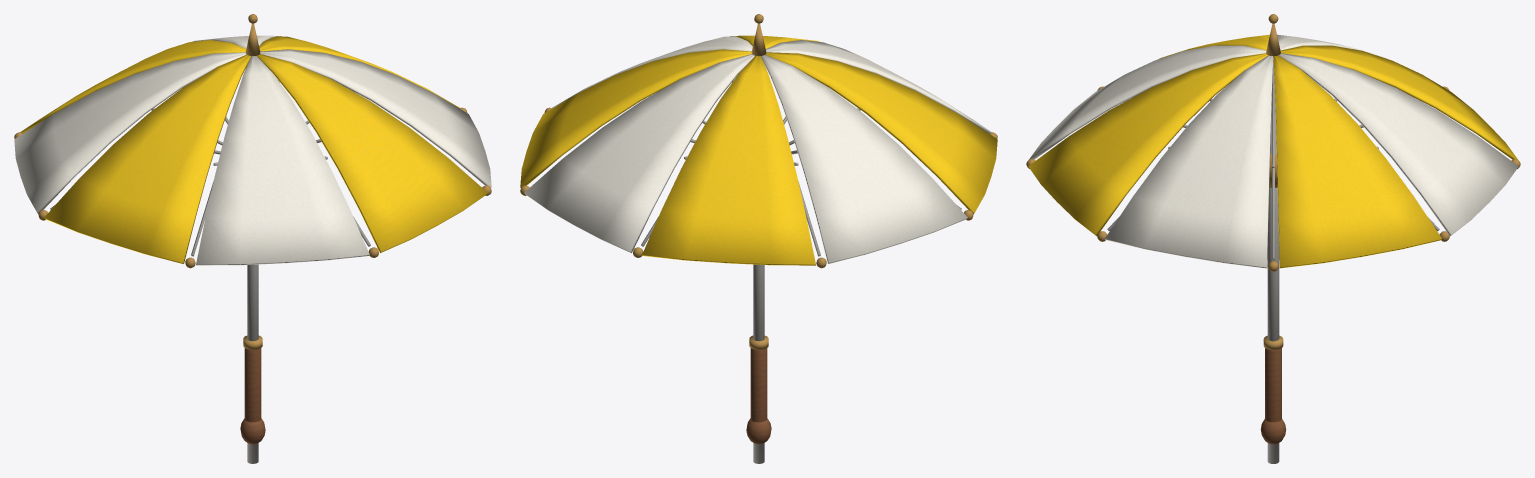
The model's file is tm-umbrella-open.glb.
3 renders of one model, left to right at view 1: azimuth 30°, elevation 25°; view 2: azimuth 150°, elevation 25°; view 3: azimuth 270°, elevation 25°, orthographic.
Parts seen in each view (by area): view 1: tm-umbrella-open; view 2: tm-umbrella-open; view 3: tm-umbrella-open.
Boxes of the visible parts, x1,y1,x2,y2 form: tm-umbrella-open: (14, 14, 491, 463); tm-umbrella-open: (520, 14, 997, 463); tm-umbrella-open: (1026, 14, 1520, 463).
Bounding box in the file's own units: 1.01 × 1 × 1.01.
Materials: 1 (1 with a texture image).
